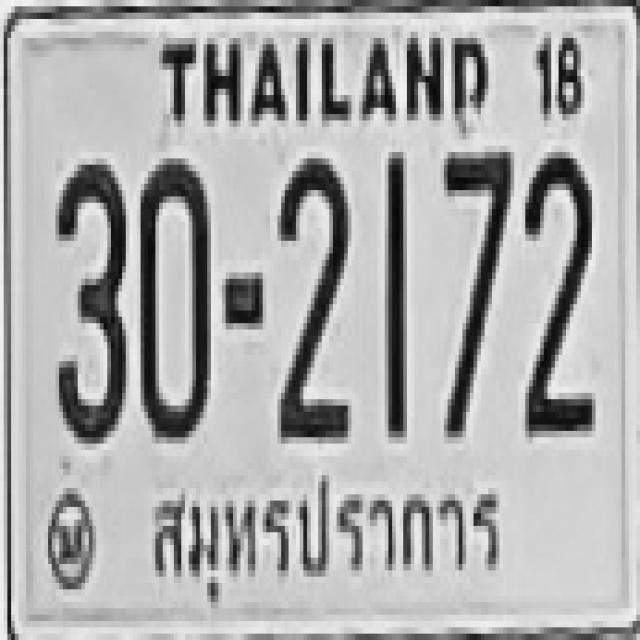0: (137, 152, 207, 437)
1: (381, 149, 403, 434)
2: (276, 152, 346, 437), (522, 149, 588, 428)
3: (54, 158, 124, 438)
7: (440, 146, 511, 431)
SamutPrakan: (126, 456, 520, 607)
